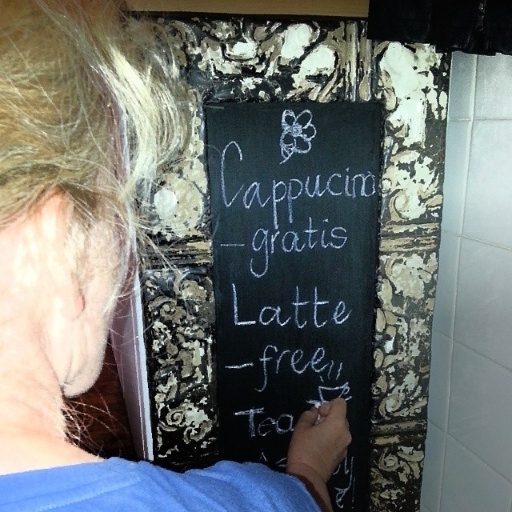hand: (280, 403, 355, 499)
